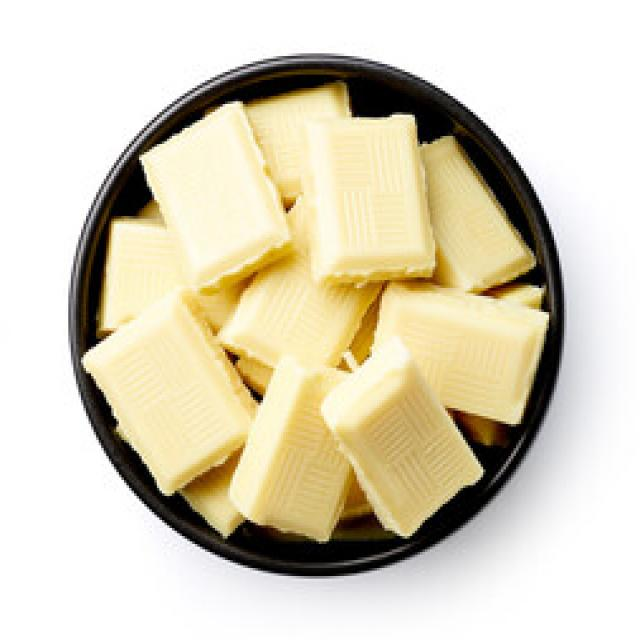Chocolate: (70, 68, 576, 570)
